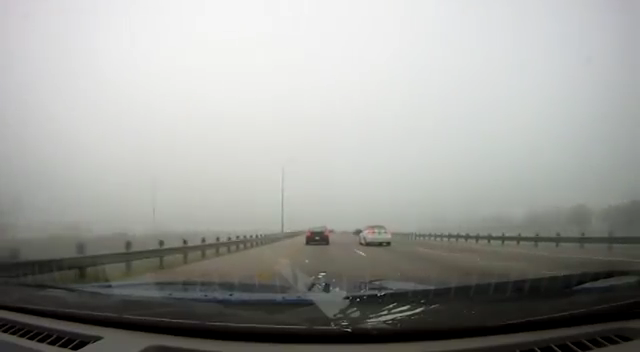car: (358, 225, 392, 246), (305, 227, 330, 247), (352, 227, 363, 235)
